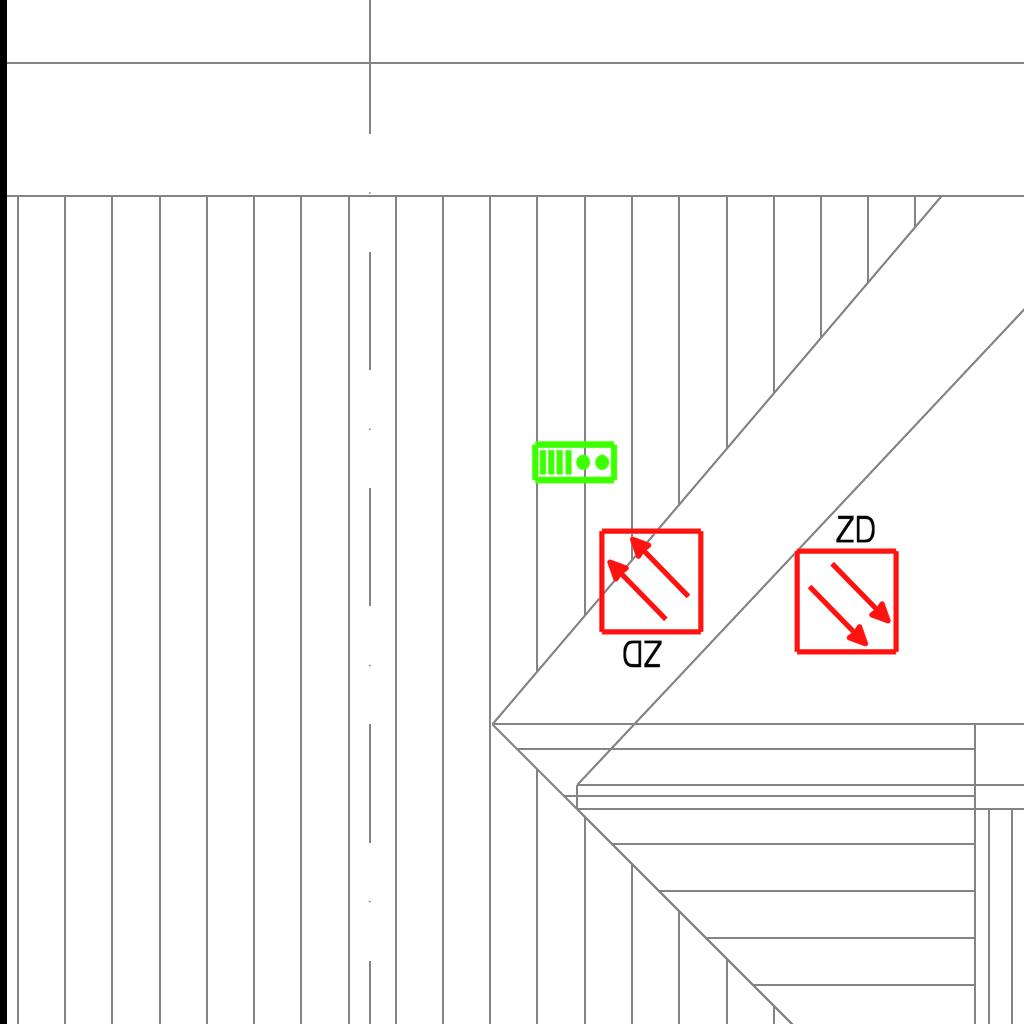Gegensprechanlage_mit_Video: (531, 438, 619, 485)
ZD_Melder_in_Zwischendecke_mit_Revisionsoeffnung_mind_40_x_40_cm: (788, 508, 902, 657), (596, 526, 710, 675)
